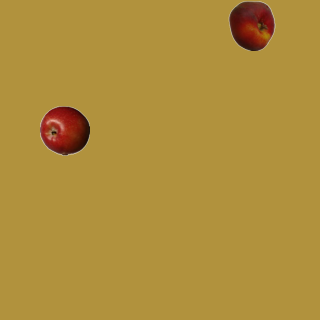Apple Braeburn: (39, 105, 89, 155)
Nectarine Flat: (226, 0, 276, 50)
